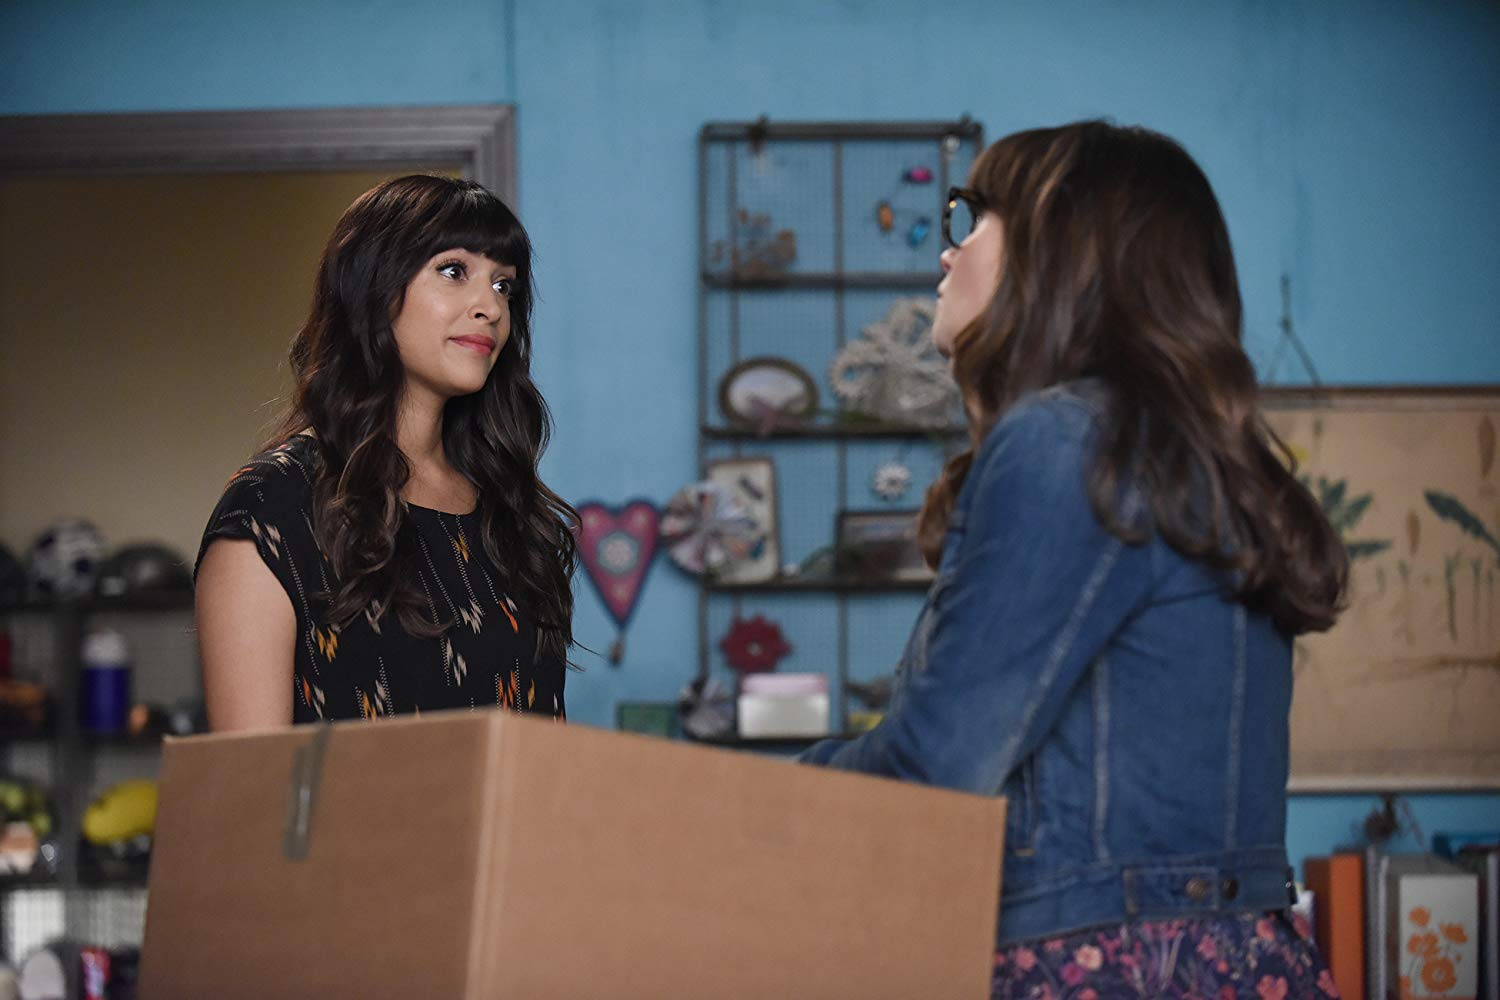person: (866, 114, 1336, 997), (167, 151, 615, 738)
